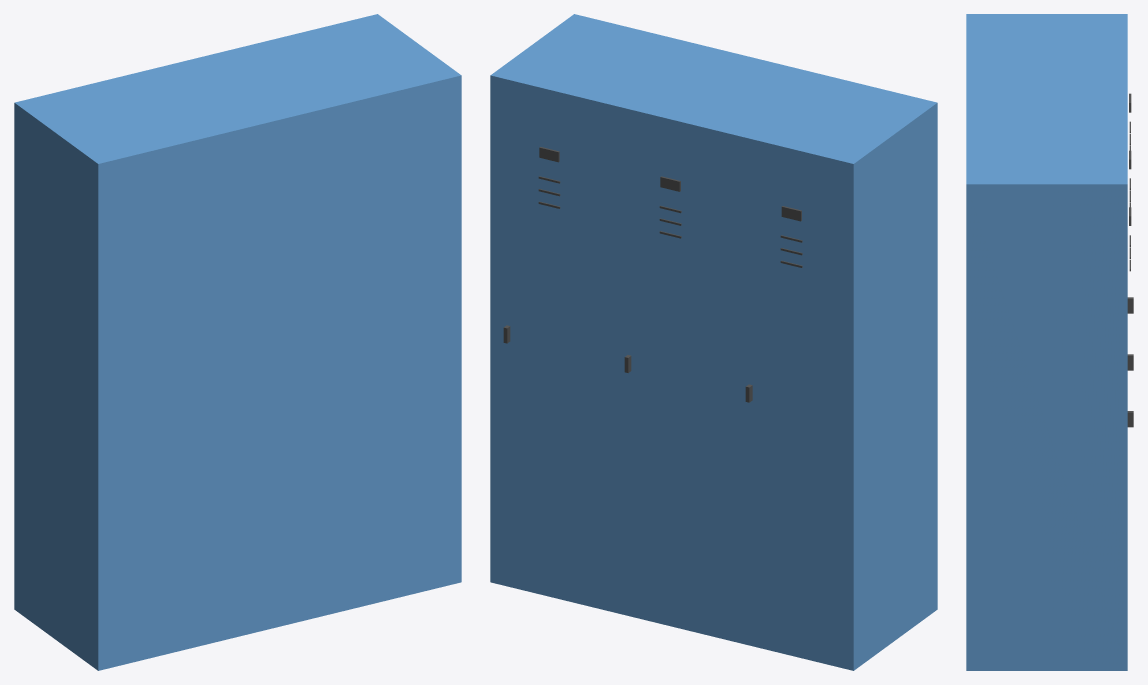
The model's file is szafka_szkolna.fbx.
The picture shows the model from 3 angles, left to right: view 1: azimuth 30°, elevation 25°; view 2: azimuth 150°, elevation 25°; view 3: azimuth 270°, elevation 25°; orthographic projection. The views are drawn at different scales.
Parts seen in each view (by area): view 1: SzafkaKorytarz; view 2: SzafkaKorytarz; view 3: SzafkaKorytarz.
Boxes of the visible parts, box(x1,y1,x2,y2) form: SzafkaKorytarz: box(14, 14, 461, 670); SzafkaKorytarz: box(490, 14, 937, 670); SzafkaKorytarz: box(966, 14, 1133, 670).
Bounding box in the file's own units: 3 × 4 × 1.25.
